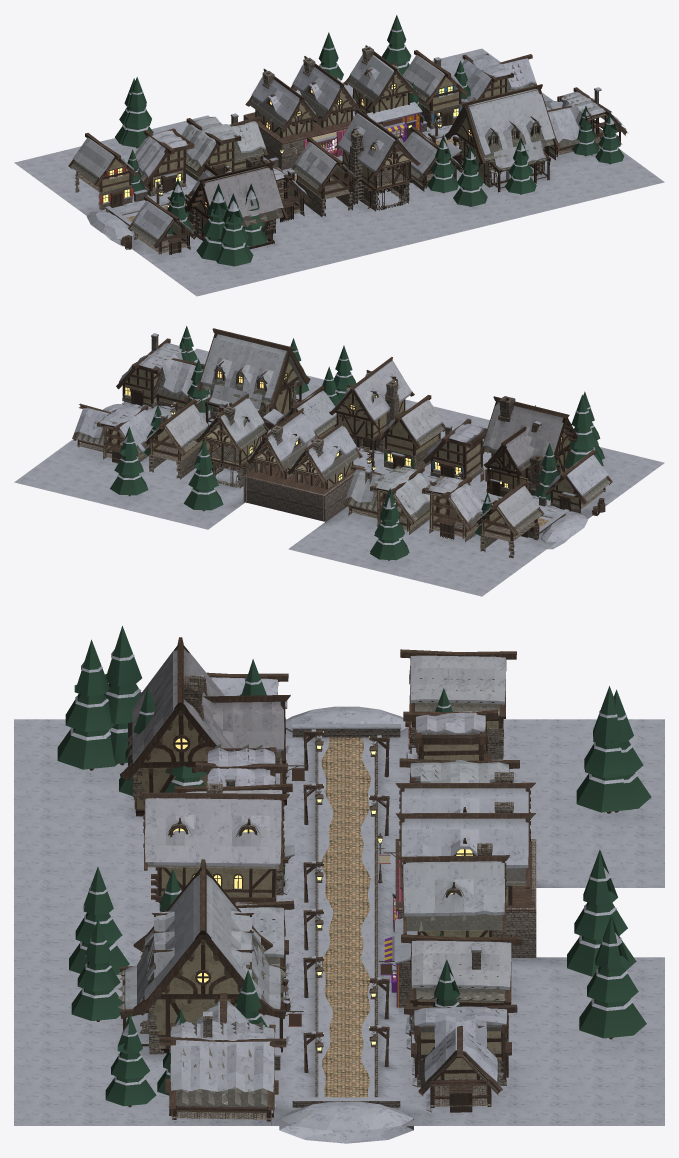
The model's file is hm_street_02_low_webp.glb.
3 views of the same model, one above another, from view 1: azimuth 30°, elevation 25°; view 2: azimuth 150°, elevation 25°; view 3: azimuth 270°, elevation 25° (orthographic). The views are drawn at different scales.
Visible parts, largest first — view 1: Hm_Street, Hm_Honeydukes_Body; view 2: Hm_Street, Hm_Honeydukes_Body; view 3: Hm_Street, Hm_Honeydukes_Body.
Boxes of the visible parts, bbox=[...] form: Hm_Street: bbox=[14, 15, 664, 296]; Hm_Honeydukes_Body: bbox=[243, 56, 362, 169]; Hm_Street: bbox=[14, 326, 664, 596]; Hm_Honeydukes_Body: bbox=[243, 408, 364, 522]; Hm_Street: bbox=[14, 626, 664, 1143]; Hm_Honeydukes_Body: bbox=[379, 772, 536, 957].
Bounding box in the file's own units: 70.18 × 12.71 × 46.
12 materials, 8 textured.
